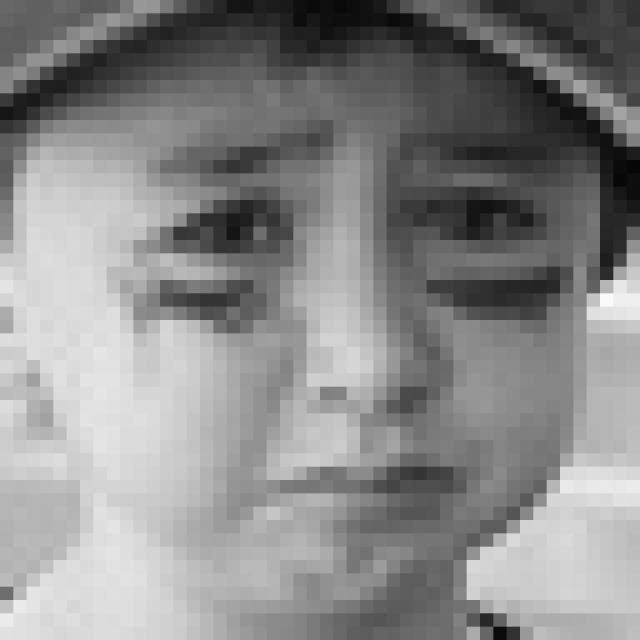sad: (126, 123, 567, 553)
